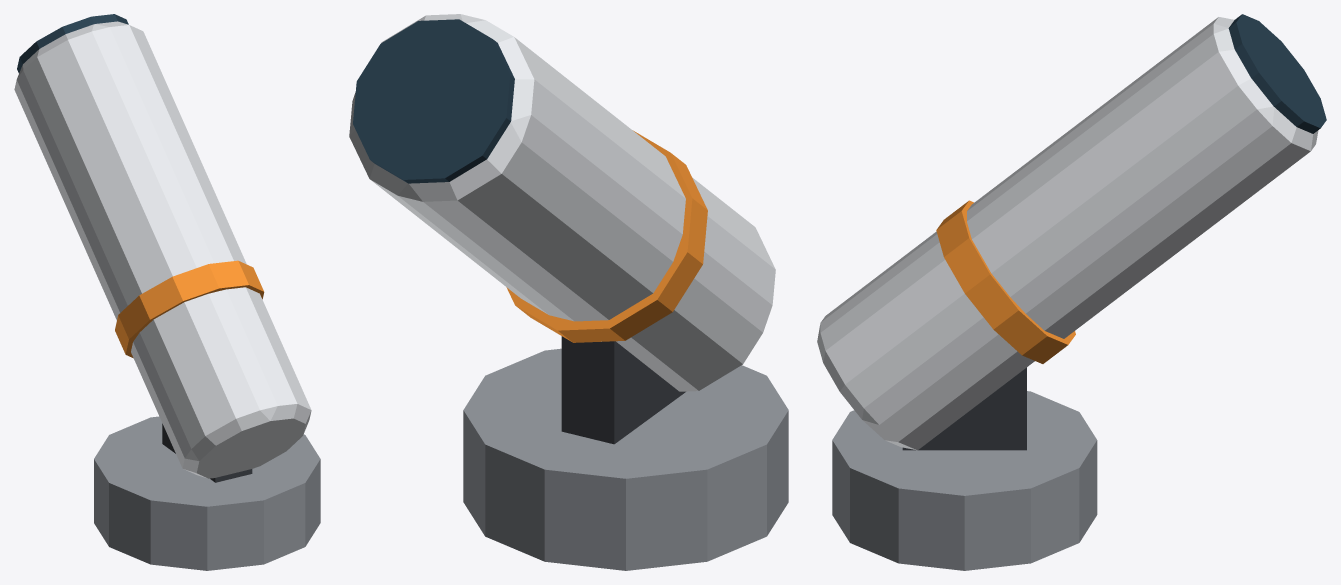
File: telescope.glb
The picture shows the model from 3 angles, left to right: view 1: azimuth 30°, elevation 25°; view 2: azimuth 150°, elevation 25°; view 3: azimuth 270°, elevation 25°; orthographic projection. The views are drawn at different scales.
Parts seen in each view (by area): view 1: telescope; view 2: telescope; view 3: telescope.
Part boxes in pixels (x1=…): telescope: x1=14, y1=14, x2=320, y2=570; telescope: x1=349, y1=14, x2=788, y2=570; telescope: x1=817, y1=14, x2=1326, y2=570.
Bounding box in the file's own units: 0.64 × 1.31 × 1.23.
